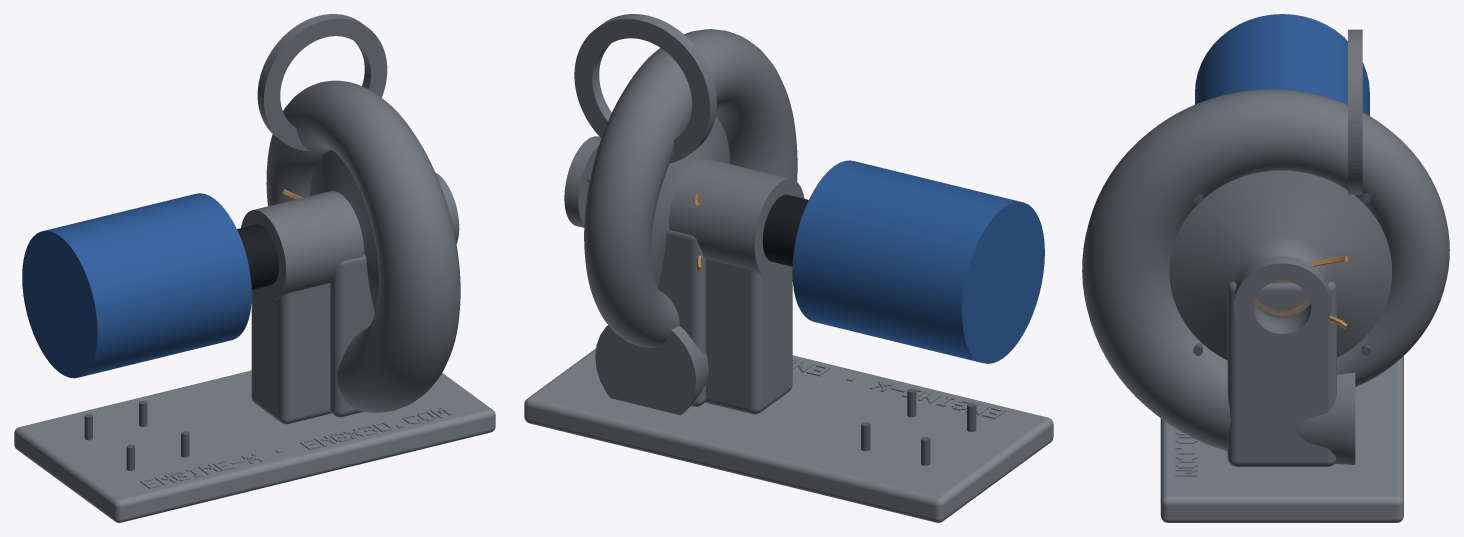
The model's file is pump.glb.
The picture shows the model from 3 angles, left to right: view 1: azimuth 30°, elevation 25°; view 2: azimuth 150°, elevation 25°; view 3: azimuth 270°, elevation 25°; orthographic projection. The views are drawn at different scales.
Visible parts, largest first — view 1: Baseplate (Centrifugal pump · Engine-X), Volute casing, Motor, Bearing housing, Discharge flange, Casing support foot, Flexible coupling; view 2: Baseplate (Centrifugal pump · Engine-X), Volute casing, Motor, Bearing housing, Discharge flange, Casing support foot, Flexible coupling, Suction flange; view 3: Volute casing, Baseplate (Centrifugal pump · Engine-X), Casing support foot, Motor, Suction flange, Discharge flange.
Part boxes in pixels (x1,y1,x2,y2): Baseplate (Centrifugal pump · Engine-X): [14, 370, 495, 522]; Volute casing: [266, 80, 460, 412]; Motor: [22, 193, 251, 378]; Bearing housing: [241, 191, 364, 424]; Discharge flange: [257, 14, 387, 150]; Casing support foot: [330, 254, 374, 417]; Flexible coupling: [237, 224, 278, 289]; Baseplate (Centrifugal pump · Engine-X): [524, 348, 1053, 522]; Volute casing: [584, 29, 797, 415]; Motor: [792, 160, 1044, 363]; Bearing housing: [669, 158, 804, 414]; Discharge flange: [574, 14, 716, 163]; Casing support foot: [658, 227, 705, 406]; Flexible coupling: [762, 194, 808, 266]; Suction flange: [564, 136, 601, 227]; Volute casing: [1082, 89, 1449, 464]; Baseplate (Centrifugal pump · Engine-X): [1160, 356, 1403, 522]; Casing support foot: [1227, 282, 1336, 466]; Motor: [1195, 14, 1369, 115]; Suction flange: [1233, 256, 1330, 351]; Discharge flange: [1348, 29, 1362, 194].
Size of the model in its own units: 0.425 by 0.396 by 0.3025.
